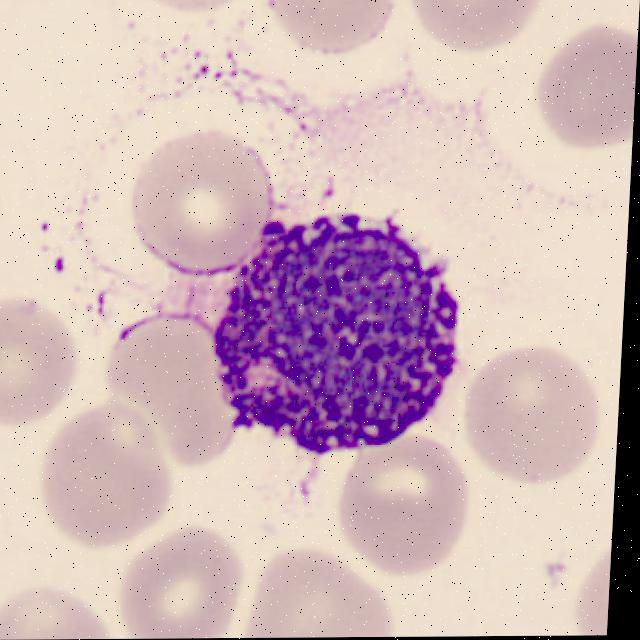basophil: (213, 210, 474, 440)
rbc: (93, 311, 263, 474), (457, 340, 618, 493), (127, 124, 277, 273), (40, 397, 178, 542), (333, 437, 476, 568), (115, 517, 250, 639), (247, 544, 401, 638), (528, 18, 639, 147), (0, 277, 85, 424), (260, 0, 402, 57), (404, 0, 548, 56), (0, 584, 114, 640), (558, 542, 612, 636), (142, 0, 241, 22)
